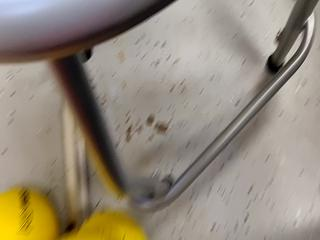power_cell: (1, 184, 58, 240), (59, 212, 155, 240)
